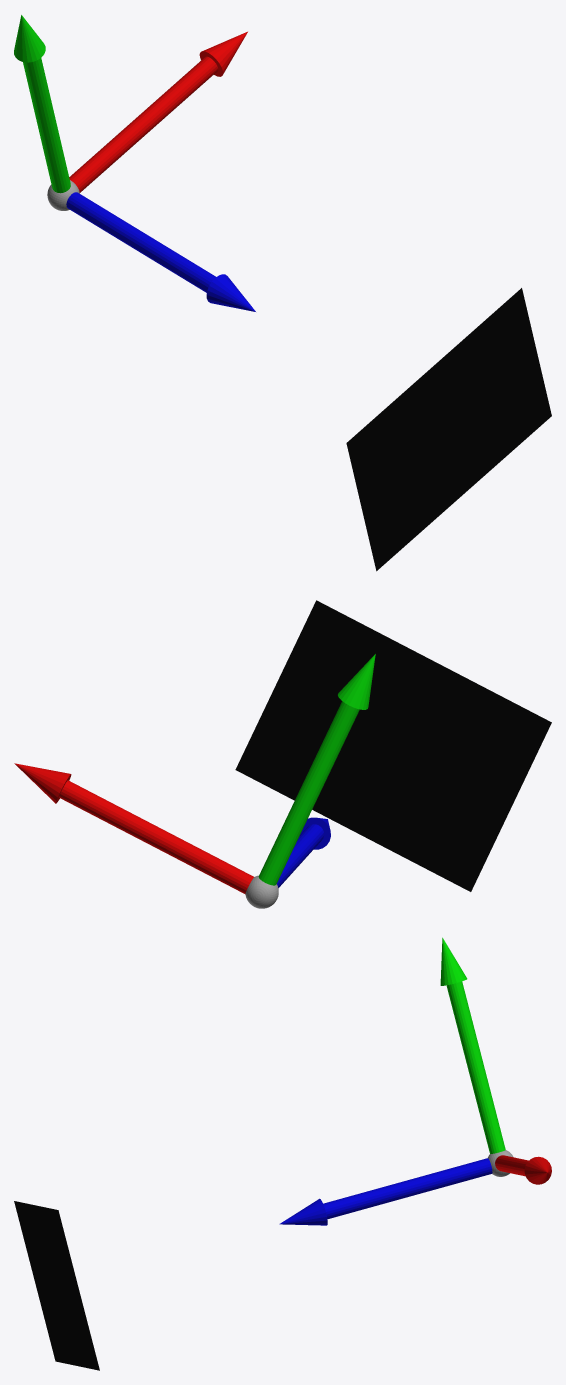
3 renders of one model, top to bottom at view 1: azimuth 30°, elevation 25°; view 2: azimuth 150°, elevation 25°; view 3: azimuth 270°, elevation 25°, orthographic. The views are drawn at different scales.
Size of the model in its own units: 0.1777 by 0.2171 by 0.2872.
